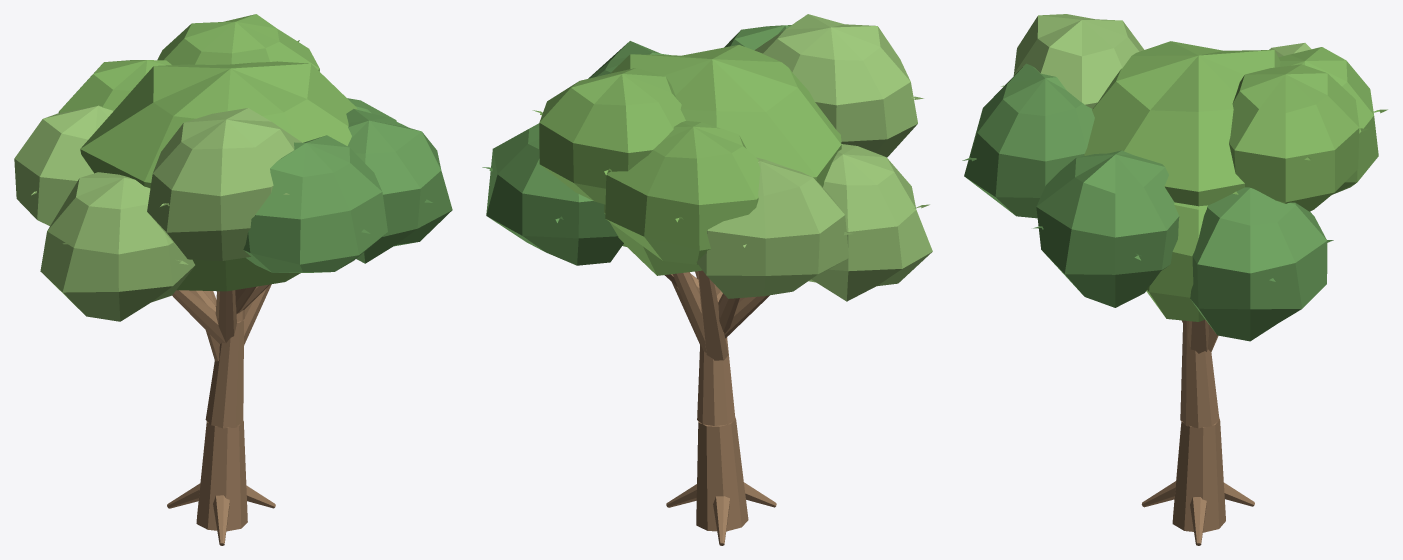
File: Tree_Oak.fbx
3 renders of one model, left to right at view 1: azimuth 30°, elevation 25°; view 2: azimuth 150°, elevation 25°; view 3: azimuth 270°, elevation 25°, orthographic. The views are drawn at different scales.
Parts seen in each view (by area): view 1: Tree_Oak; view 2: Tree_Oak; view 3: Tree_Oak.
Part boxes in pixels (x1=…): Tree_Oak: x1=14, y1=14, x2=452, y2=545; Tree_Oak: x1=482, y1=14, x2=932, y2=545; Tree_Oak: x1=962, y1=14, x2=1387, y2=545.
Size of the model in its own units: 419 by 477 by 389.
